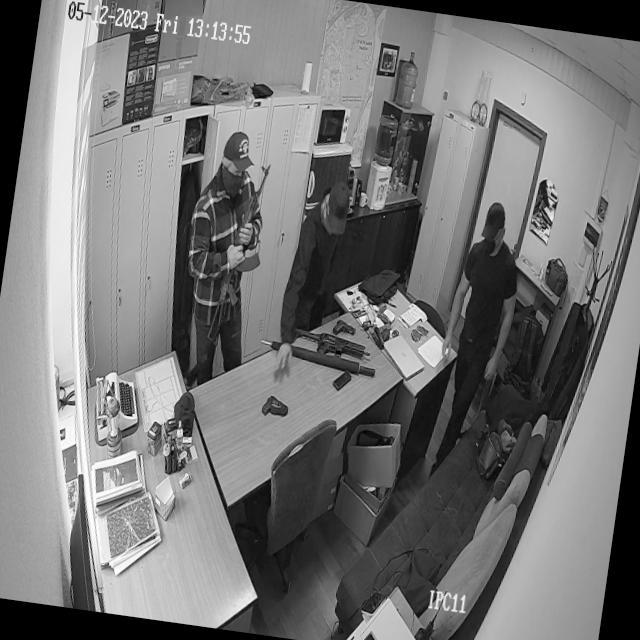gun: (216, 158, 274, 350), (292, 326, 374, 361), (258, 388, 292, 427), (332, 315, 358, 339)
person: (434, 194, 527, 414)
person with a gun: (172, 125, 279, 356), (270, 182, 360, 381)
